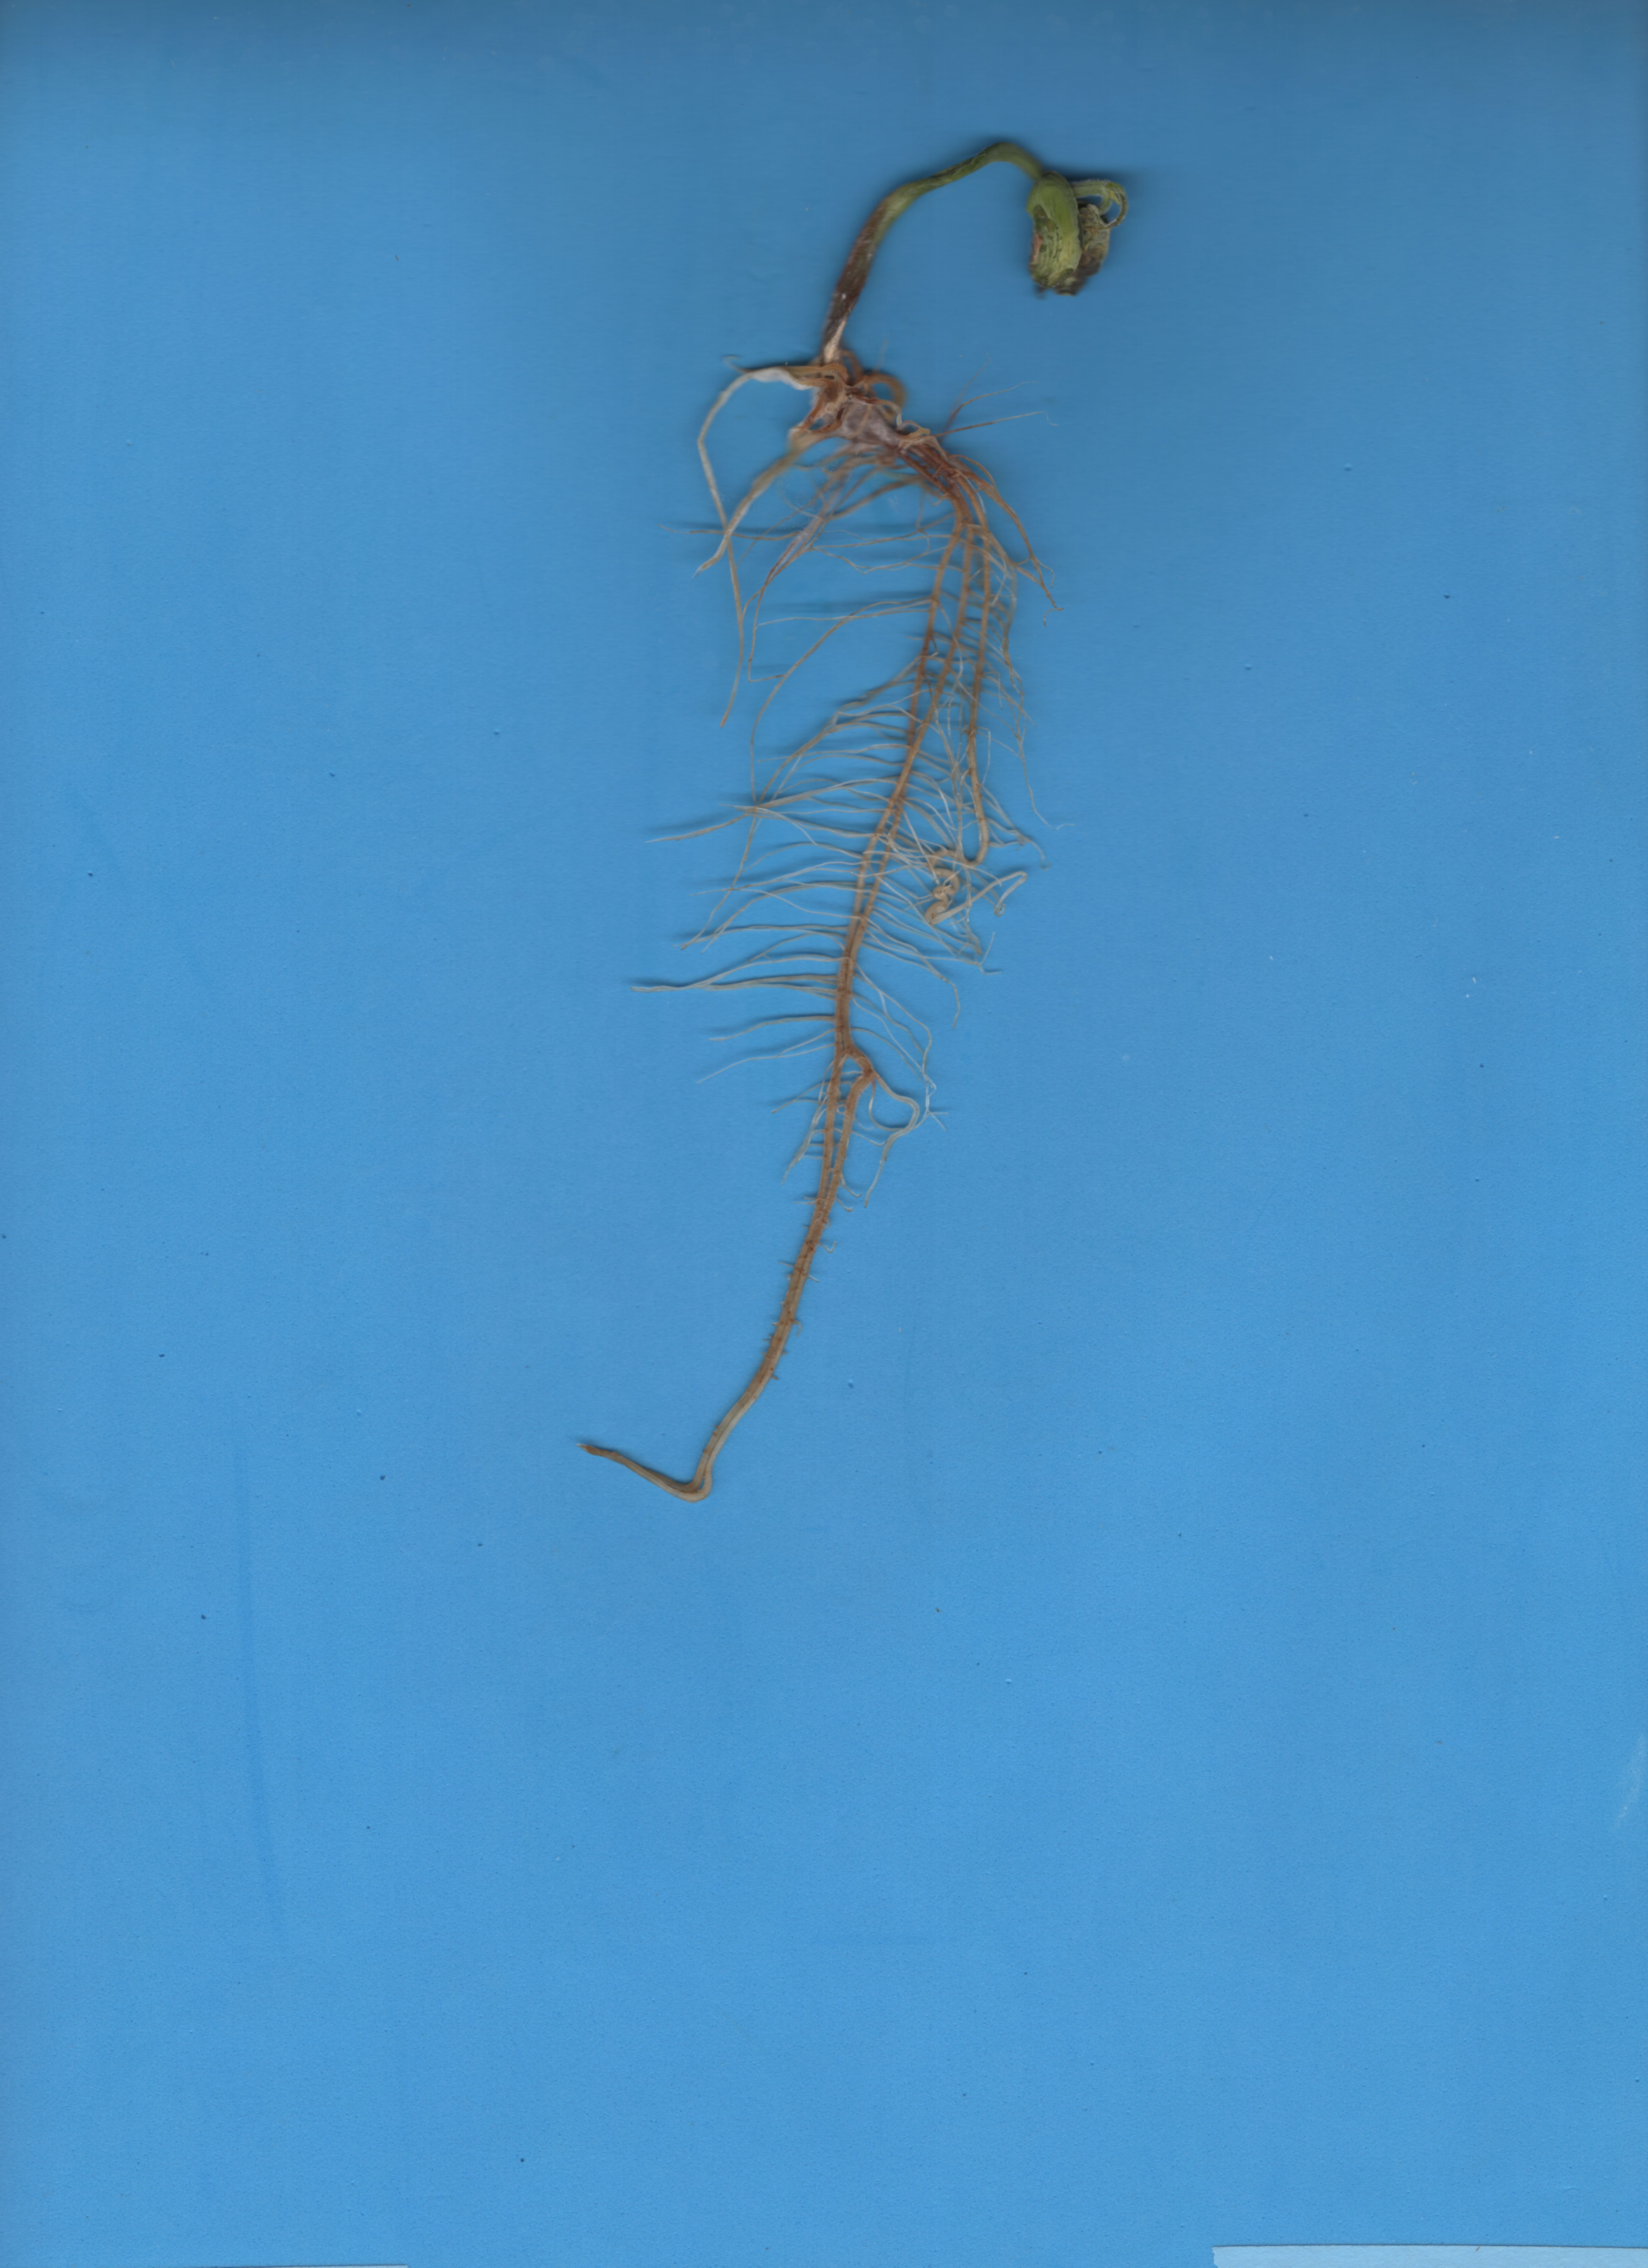CROWNDISEASE: (784, 97, 1034, 342)
ROOTDISEASE: (518, 347, 1136, 1572)
